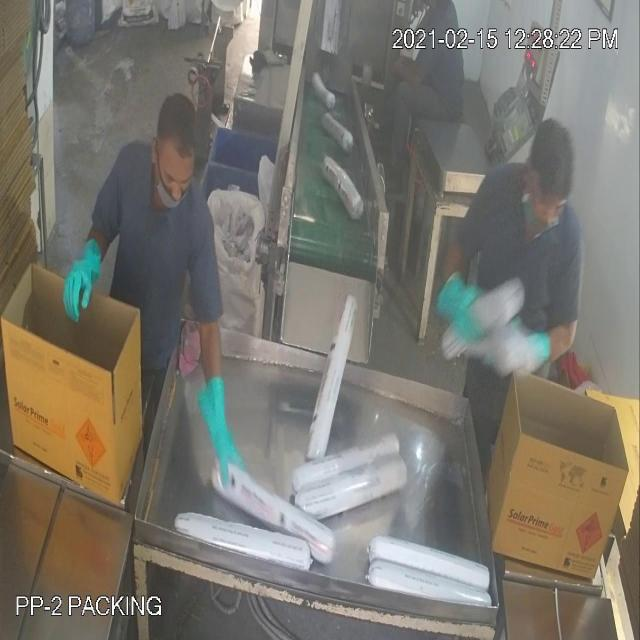Gloves: (62, 54, 463, 428)
